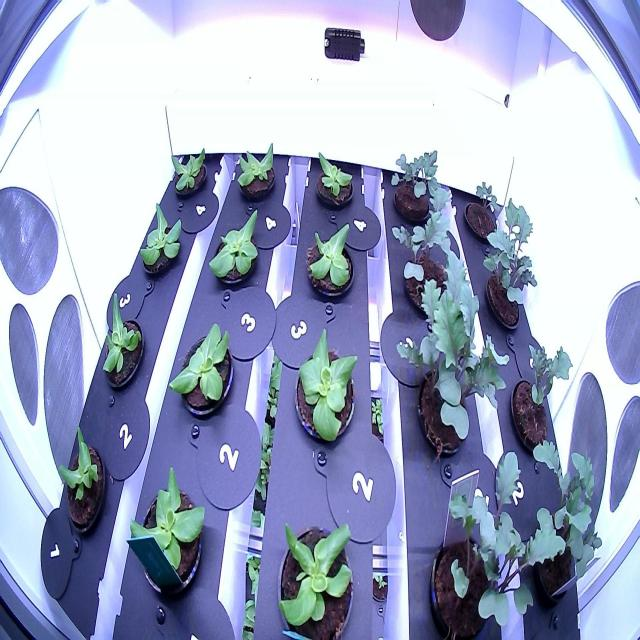young: (123, 459, 213, 607), (272, 505, 360, 639), (293, 321, 362, 449), (163, 317, 241, 418), (55, 420, 113, 547), (94, 285, 155, 400), (201, 203, 268, 296), (299, 217, 362, 306), (133, 197, 186, 285), (230, 134, 284, 211), (311, 141, 358, 216), (166, 133, 212, 206)
